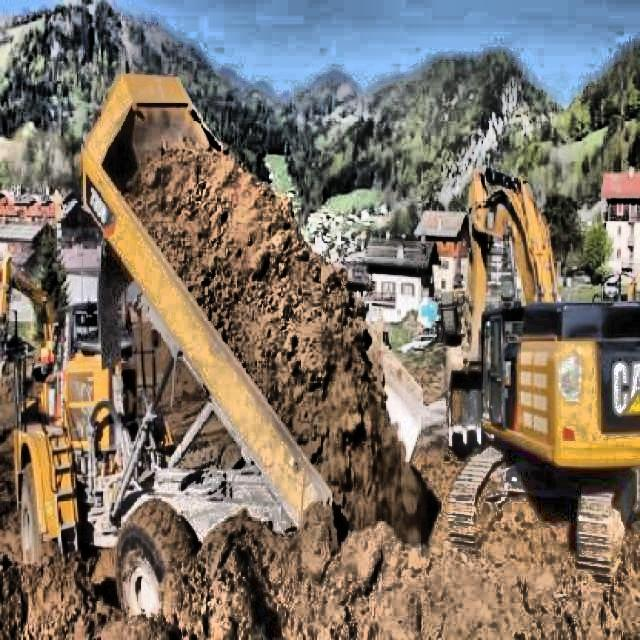dump_truck: (12, 69, 425, 626)
excavator: (443, 163, 639, 585), (1, 252, 57, 382)
